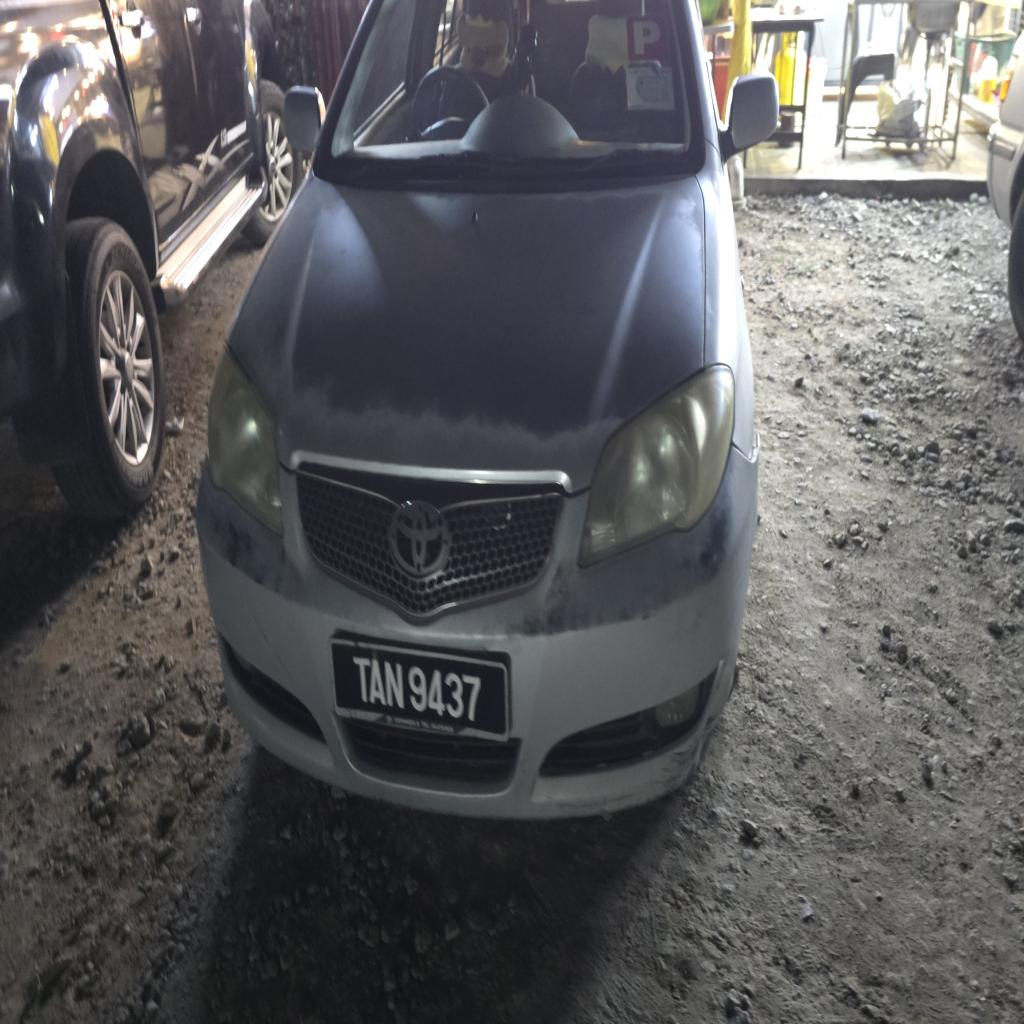car: (197, 0, 777, 816)
car plate: (332, 634, 510, 738)
